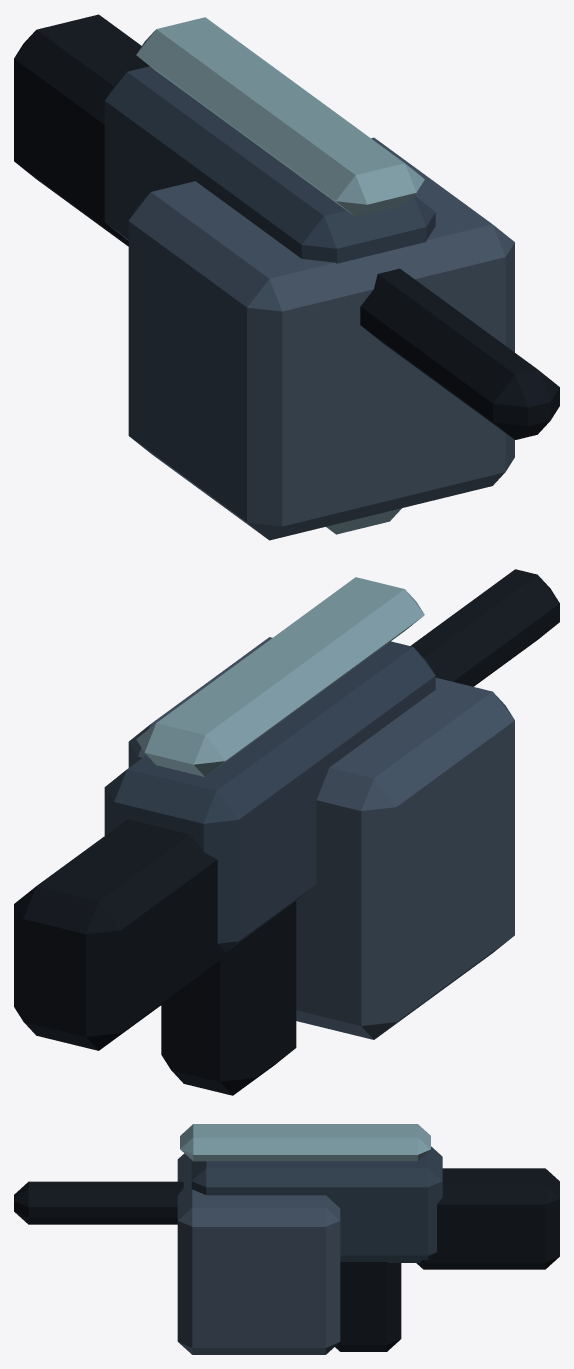
Rendered from Aftershock.fbx.
The picture shows the model from 3 angles, top to bottom: view 1: azimuth 30°, elevation 25°; view 2: azimuth 150°, elevation 25°; view 3: azimuth 270°, elevation 25°; orthographic projection. The views are drawn at different scales.
Visible parts, largest first — view 1: Aftershock_Mesh; view 2: Aftershock_Mesh; view 3: Aftershock_Mesh.
Part boxes in pixels (left/top/right/bottom): Aftershock_Mesh: left=14, top=14, right=559, bottom=540; Aftershock_Mesh: left=14, top=569, right=559, bottom=1095; Aftershock_Mesh: left=14, top=1124, right=559, bottom=1354.
Bounding box in the file's own units: 30 × 40.75 × 94.
